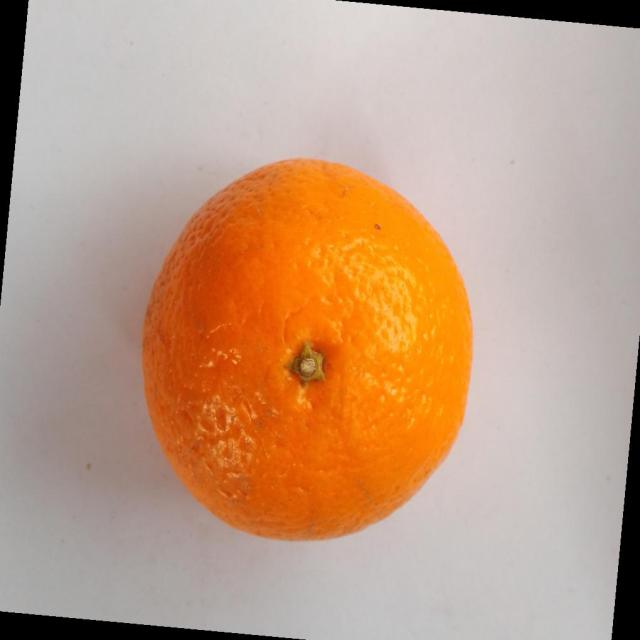fresh orange: (140, 156, 473, 542)
